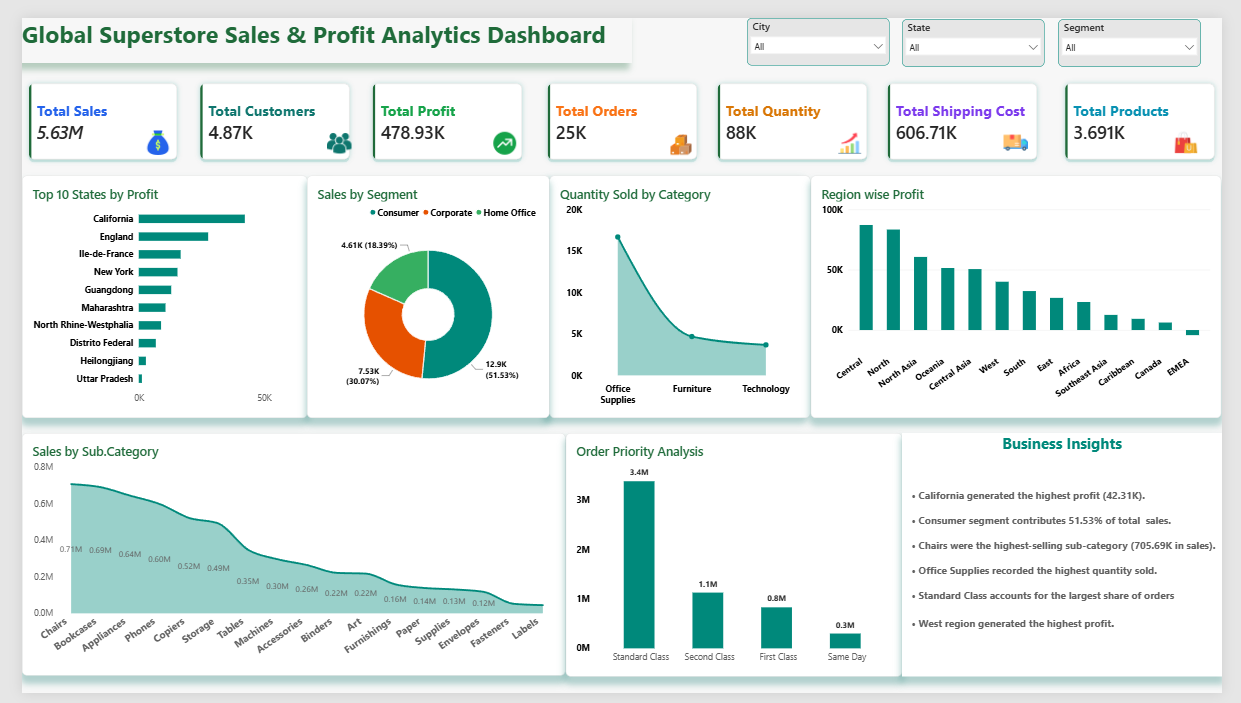

The page's visual inventory and layout, read from the dashboard file:
{"tool":"powerbi","page":{"name":"Dashboard","canvas":[1920,1080],"ordinal":6},"visuals":[{"type":"stackedAreaChart","title":"Sales by Sub.Category","fields":{"Category":["Products.Sub.Category"],"Y":["Sum(Orders.Sales)"]},"box":[0,663.3,869.4,387.8],"z":0},{"type":"clusteredBarChart","title":"Top 10 States by Profit","fields":{"Category":["Customers.State"],"Y":["Sum(Orders.Profit)"]},"box":[0,252.2,456.7,388.1],"z":1000},{"type":"areaChart","title":"Quantity Sold by Category","fields":{"Category":["Products.Category"],"Y":["CountNonNull(Orders.Order.ID)"]},"box":[844.8,252.2,417.9,388.1],"z":2000},{"type":"clusteredColumnChart","title":"Region wise Profit","fields":{"Category":["Orders.Region"],"Y":["Sum(Orders.Profit)"]},"box":[1262.7,252.2,656.7,388.1],"z":3000},{"type":"donutChart","title":"Sales by Segment","fields":{"Category":["Customers.Segment"],"Y":["CountNonNull(Orders.Order.ID)"]},"box":[456.7,252.2,388.1,388.1],"z":4000},{"type":"clusteredColumnChart","title":"Order Priority Analysis","fields":{"Category":["Orders.Ship.Mode"],"Y":["Sum(Orders.Sales)"]},"box":[869.4,663.3,538.8,389.8],"z":5000},{"type":"textbox","box":[1408.2,663.3,512.2,389.8],"z":6000},{"type":"textbox","box":[0,0,976.1,73.1],"z":7000},{"type":"cardVisual","fields":{"Data":["Sum(Orders.Sales)"]},"box":[0,94,259.7,143.3],"z":8000},{"type":"cardVisual","fields":{"Data":["CountNonNull(Customers.Customer.ID)"]},"box":[274.6,94,261.2,143.3],"z":9000},{"type":"cardVisual","fields":{"Data":["Sum(Orders.Profit)"]},"box":[549.3,94,261.2,143.3],"z":10000},{"type":"cardVisual","fields":{"Data":["CountNonNull(Orders.Order.ID)"]},"box":[829.9,94,261.2,143.3],"z":11000},{"type":"cardVisual","fields":{"Data":["Sum(Orders.Quantity)"]},"box":[1101.5,94,261.2,143.3],"z":12000},{"type":"slicer","fields":{"Values":["Customers.City"]},"box":[1159.7,0,228.4,76.1],"z":13000},{"type":"slicer","fields":{"Values":["Customers.State"]},"box":[1407.5,1.5,228.4,76.1],"z":14000},{"type":"cardVisual","fields":{"Data":["Sum(Orders.Shipping.Cost)"]},"box":[1374.6,94,261.2,143.3],"z":15000},{"type":"cardVisual","fields":{"Data":["Count(Products.Product.Name)"]},"box":[1658.2,94,261.2,143.3],"z":16000},{"type":"slicer","fields":{"Values":["Customers.Segment"]},"box":[1658.2,1.5,228.4,76.1],"z":17000},{"type":"image","box":[198.6,179.7,39.2,39.2],"z":18000},{"type":"image","box":[487.5,179.7,39.1,40.6],"z":19000},{"type":"image","box":[1563.5,179.7,52.7,39.2],"z":20000},{"type":"image","box":[1298.6,182.4,52.7,36.5],"z":21000},{"type":"image","box":[1027,185.1,52.7,33.8],"z":22000},{"type":"image","box":[745.9,182.4,52.7,36.5],"z":23000},{"type":"image","box":[1837.8,179.7,48.6,39.2],"z":23001}]}

Visuals, with their boxes in screenshot pixels (x1, y1, x2, y2), scaled from the page's 1920x1080 canvas onto the 1241x703 screenshot:
"Sales by Sub.Category" stackedAreaChart: 0, 432, 562, 684
"Top 10 States by Profit" clusteredBarChart: 0, 164, 295, 417
"Quantity Sold by Category" areaChart: 546, 164, 816, 417
"Region wise Profit" clusteredColumnChart: 816, 164, 1240, 417
"Sales by Segment" donutChart: 295, 164, 546, 417
"Order Priority Analysis" clusteredColumnChart: 562, 432, 910, 685
textbox: 910, 432, 1240, 685
textbox: 0, 0, 631, 48
cardVisual - Sum(Orders.Sales): 0, 61, 168, 154
cardVisual - CountNonNull(Customers.Customer.ID): 177, 61, 346, 154
cardVisual - Sum(Orders.Profit): 355, 61, 524, 154
cardVisual - CountNonNull(Orders.Order.ID): 536, 61, 705, 154
cardVisual - Sum(Orders.Quantity): 712, 61, 881, 154
slicer - Customers.City: 750, 0, 897, 50
slicer - Customers.State: 910, 1, 1057, 51
cardVisual - Sum(Orders.Shipping.Cost): 888, 61, 1057, 154
cardVisual - Count(Products.Product.Name): 1072, 61, 1240, 154
slicer - Customers.Segment: 1072, 1, 1219, 51
image: 128, 117, 154, 142
image: 315, 117, 340, 143
image: 1011, 117, 1045, 142
image: 839, 119, 873, 142
image: 664, 120, 698, 142
image: 482, 119, 516, 142
image: 1188, 117, 1219, 142
